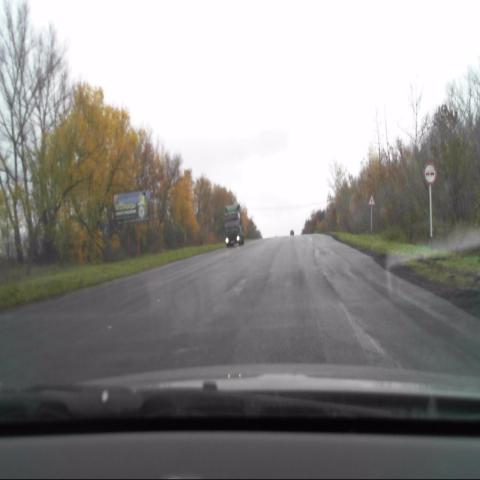2_3_2: (367, 193, 375, 207)
3_20: (423, 163, 436, 185)
